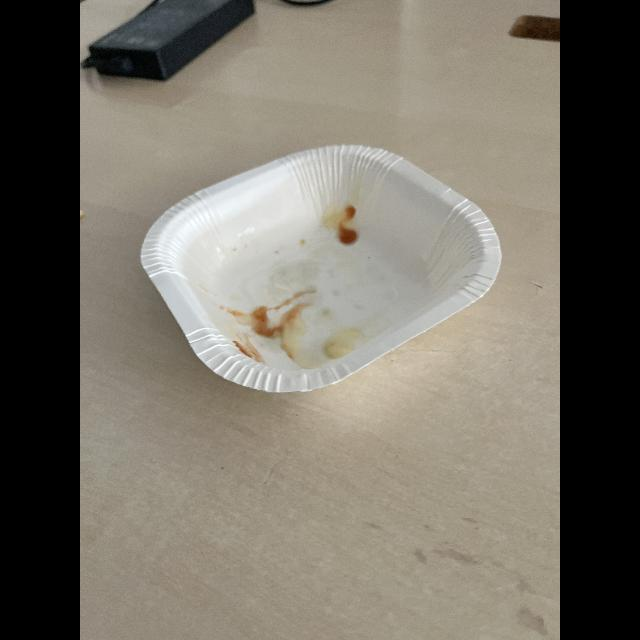cardboard_bowl: (123, 140, 507, 404)
